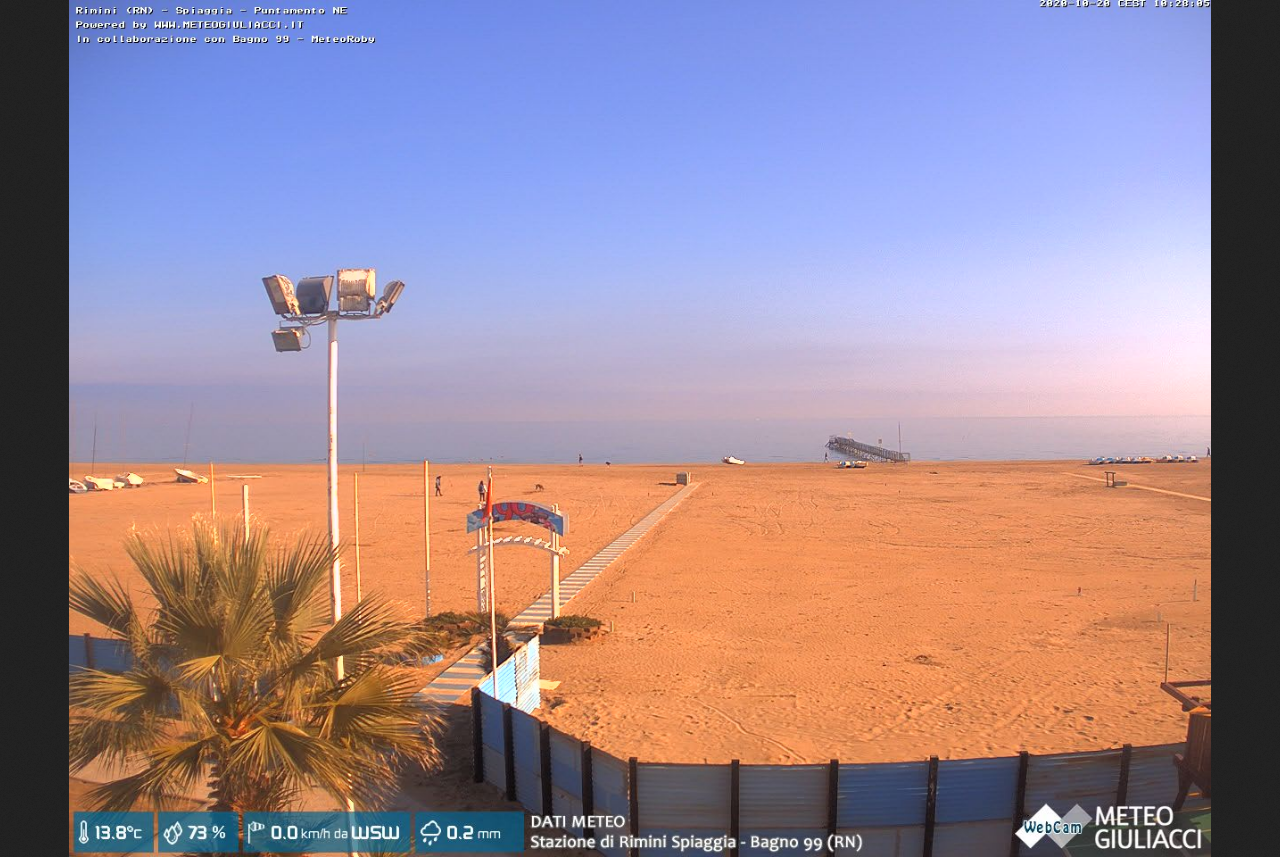no: (480, 482, 495, 527)
